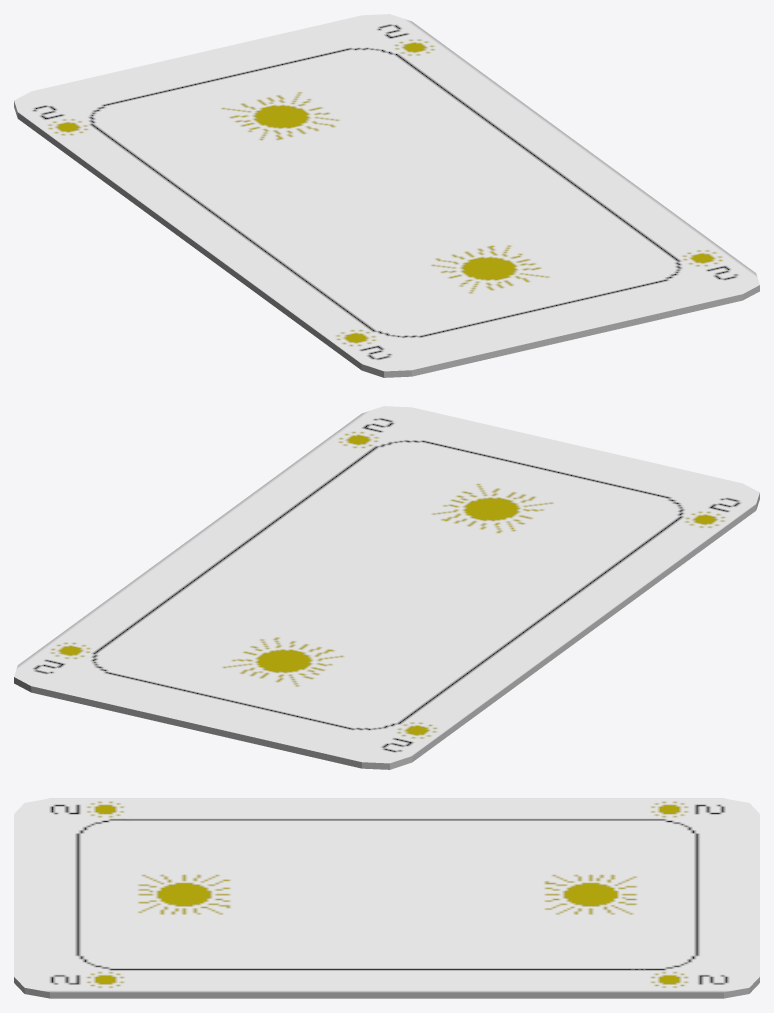
File: PlayingCard.fbx
3 renders of one model, top to bottom at view 1: azimuth 30°, elevation 25°; view 2: azimuth 150°, elevation 25°; view 3: azimuth 270°, elevation 25°, orthographic. The views are drawn at different scales.
Visible parts, largest first — view 1: Cube.001; view 2: Cube.001; view 3: Cube.001.
Part boxes in pixels (box(x1,y1,x2,y2)): Cube.001: box(14, 14, 759, 377); Cube.001: box(14, 406, 759, 769); Cube.001: box(14, 798, 759, 998).
Size of the model in its own units: 8.56 by 0.2477 by 14.31.
